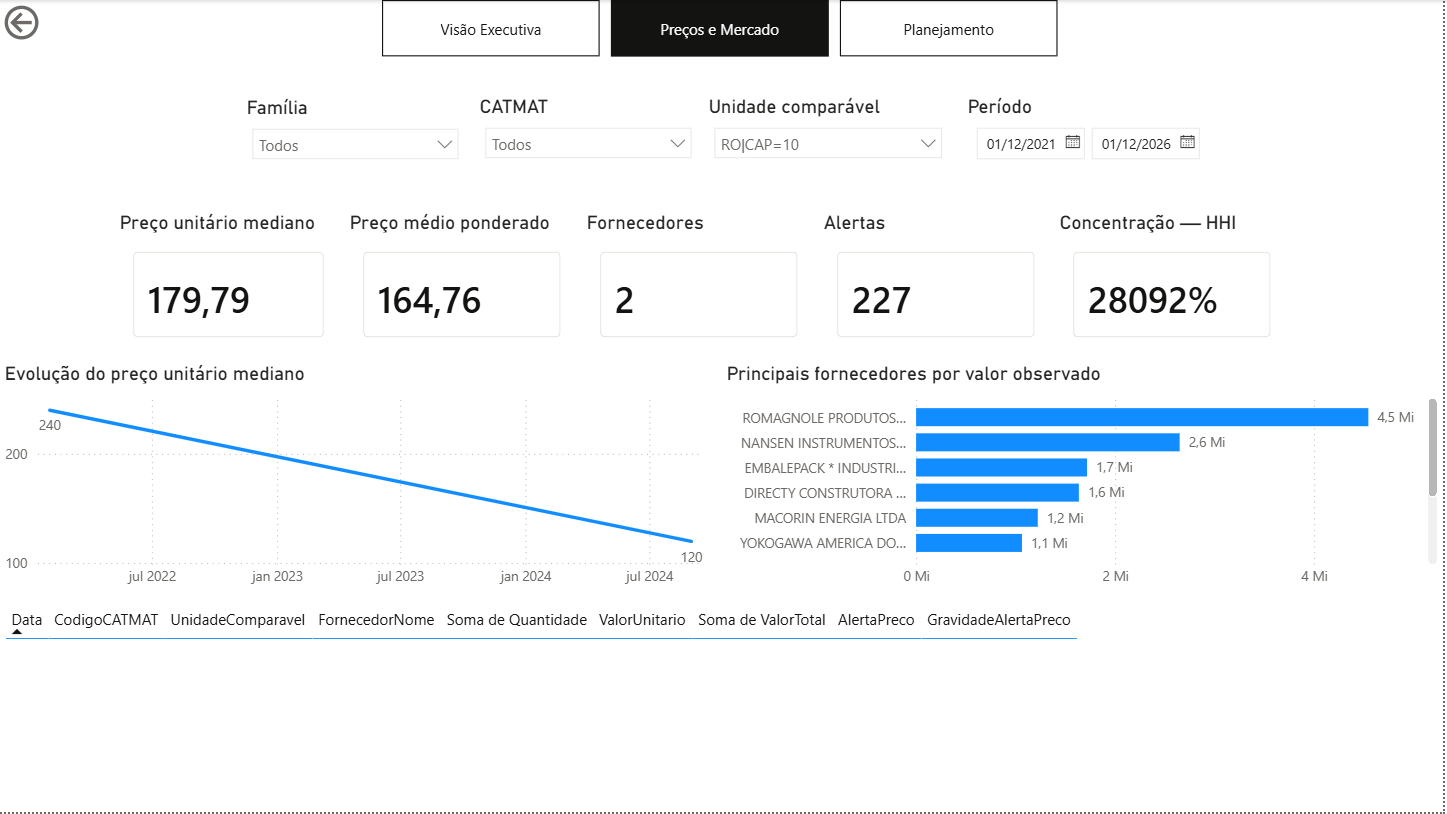

Layout of this report page (visuals, bound fields, positions):
{"tool":"powerbi","page":{"name":"Preços e Mercado","canvas":[1280,720],"ordinal":1},"visuals":[{"type":"slicer","title":"Família","fields":{"Values":["DimMaterial.FamiliaMaterial"]},"box":[215,84.9,203.4,84.5],"z":0},{"type":"slicer","title":"CATMAT","fields":{"Values":["DimMaterial.CodigoCATMAT"]},"box":[421.1,84.5,203.4,84.5],"z":1000},{"type":"slicer","title":"Período","fields":{"Values":["DimCalendario.Data"]},"box":[854.1,84.5,222.5,84.5],"z":2000},{"type":"slicer","title":"Unidade comparável","fields":{"Values":["DimUnidade.UnidadeComparavel"]},"box":[624.5,84.5,222.5,84.5],"z":3000},{"type":"cardVisual","title":"Preço unitário mediano","fields":{"Data":["Medidas.Preço Mediano Comparável"]},"box":[102.3,187.3,203.7,129.6],"z":4000},{"type":"cardVisual","title":"Preço médio ponderado","fields":{"Data":["Medidas.Preço Médio Comparável Contextual"]},"box":[306,187.3,209.9,129.6],"z":5000},{"type":"cardVisual","title":"Fornecedores","fields":{"Data":["Medidas.Fornecedores Ativos"]},"box":[515.9,187.3,209.9,129.6],"z":6000},{"type":"cardVisual","title":"Concentração — HHI","fields":{"Data":["Medidas.HHI Fornecedores"]},"box":[935.7,187.3,209.9,129.6],"z":7000},{"type":"cardVisual","title":"Alertas","fields":{"Data":["Medidas.Alertas de Preço"]},"box":[725.8,187.3,209.9,129.6],"z":8000},{"type":"barChart","title":"Principais fornecedores por valor observado","fields":{"Category":["DimFornecedor.FornecedorNome"],"Y":["Medidas.Valor Total Observado"]},"box":[640,321.2,640,208.2],"z":9000},{"type":"lineChart","title":"Evolução do preço unitário mediano","fields":{"Category":["DimCalendario.InicioMes"],"Y":["Medidas.Preço Mediano Comparável"]},"box":[0,321.2,640,208.2],"z":10000},{"type":"actionButton","box":[0,0,100,40],"z":11000},{"type":"tableEx","fields":{"Values":["FatoCompras.Data","DimMaterial.CodigoCATMAT","DimUnidade.UnidadeComparavel","DimFornecedor.FornecedorNome","Sum(FatoCompras.Quantidade)","FatoCompras.ValorUnitario","Sum(FatoCompras.ValorTotal)","FatoCompras.AlertaPreco","FatoCompras.GravidadeAlertaPreco"]},"box":[0,534.1,1280,185.6],"z":12000},{"type":"pageNavigator","box":[339.8,0,600.4,50.1],"z":13000}]}

Visuals, with their boxes in screenshot pixels (x1, y1, x2, y2), scaled from the page's 1280x720 canvas onto the 1447x814 screenshot:
"Família" slicer: detection(243, 96, 473, 192)
"CATMAT" slicer: detection(476, 96, 706, 191)
"Período" slicer: detection(966, 96, 1217, 191)
"Unidade comparável" slicer: detection(706, 96, 958, 191)
"Preço unitário mediano" cardVisual: detection(116, 212, 346, 358)
"Preço médio ponderado" cardVisual: detection(346, 212, 583, 358)
"Fornecedores" cardVisual: detection(583, 212, 820, 358)
"Concentração — HHI" cardVisual: detection(1058, 212, 1295, 358)
"Alertas" cardVisual: detection(820, 212, 1058, 358)
"Principais fornecedores por valor observado" barChart: detection(724, 363, 1446, 599)
"Evolução do preço unitário mediano" lineChart: detection(0, 363, 724, 599)
actionButton: detection(0, 0, 113, 45)
tableEx - FatoCompras.Data x DimMaterial.CodigoCATMAT: detection(0, 604, 1446, 813)
pageNavigator: detection(384, 0, 1063, 57)
